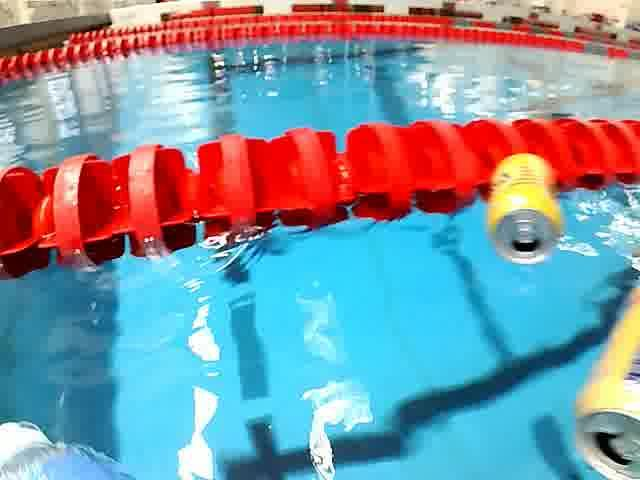Bottle: (1, 404, 159, 480)
Can: (554, 273, 640, 479), (484, 147, 564, 272)
